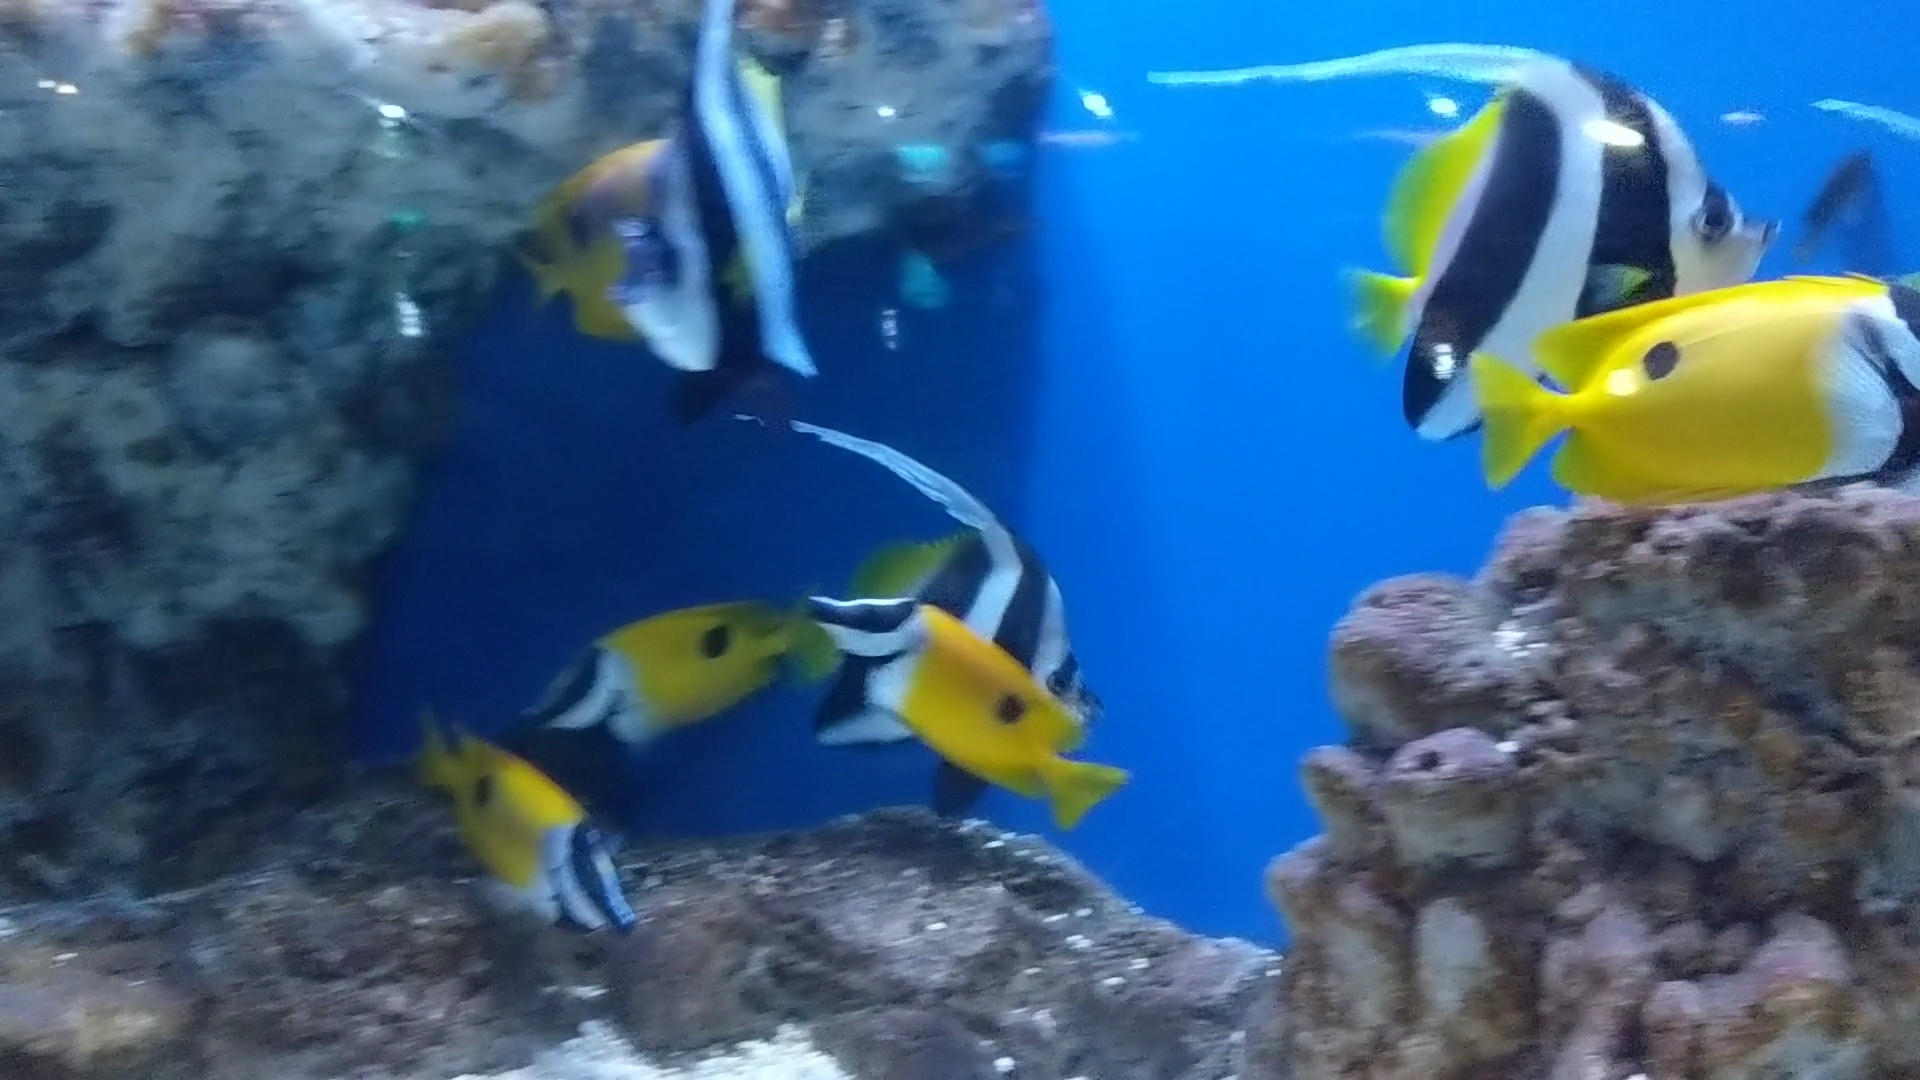moorfish: (1122, 11, 1768, 421), (773, 390, 1075, 731), (587, 38, 796, 363)
rabbitfish: (1474, 309, 1915, 510), (804, 588, 1129, 820), (363, 696, 645, 952), (506, 592, 785, 719)
